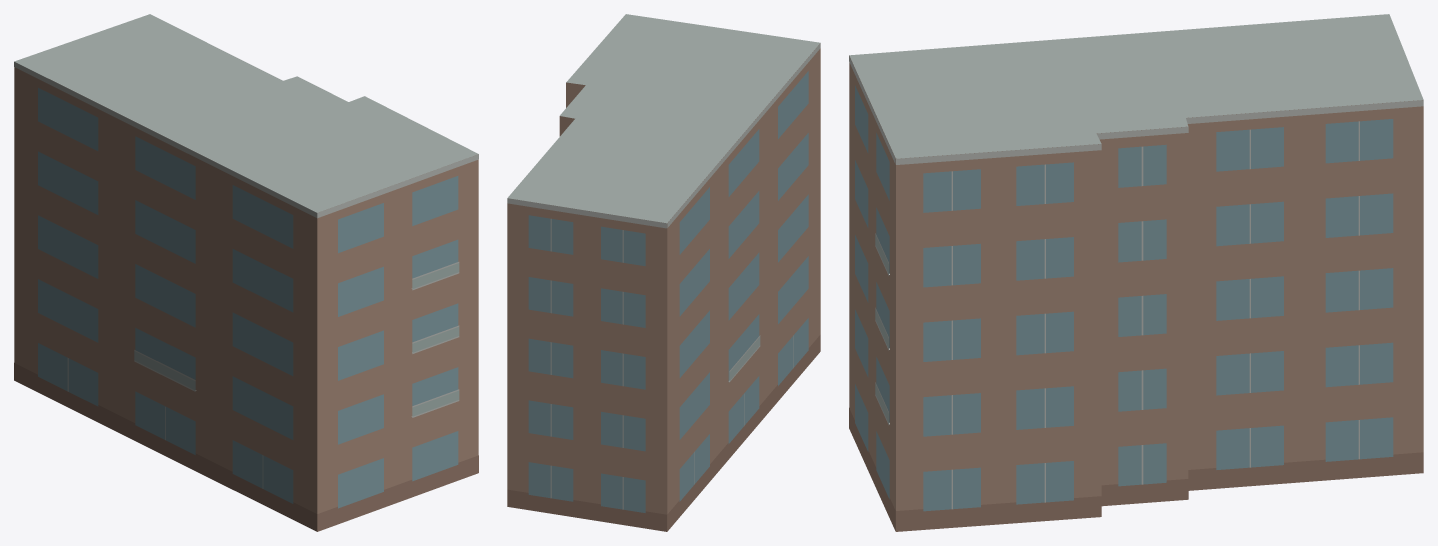
The model's file is survey-upis-32971856.glb.
The picture shows the model from 3 angles, left to right: view 1: azimuth 30°, elevation 25°; view 2: azimuth 150°, elevation 25°; view 3: azimuth 270°, elevation 25°; orthographic projection. The views are drawn at different scales.
Parts seen in each view (by area): view 1: survey-upis-32971856.tmp; view 2: survey-upis-32971856.tmp; view 3: survey-upis-32971856.tmp.
Part boxes in pixels (<box>): survey-upis-32971856.tmp: <box>14,14,478,531</box>; survey-upis-32971856.tmp: <box>507,14,820,531</box>; survey-upis-32971856.tmp: <box>849,14,1423,531</box>.
Size of the model in its own units: 11.99 by 14.4 by 20.11.
